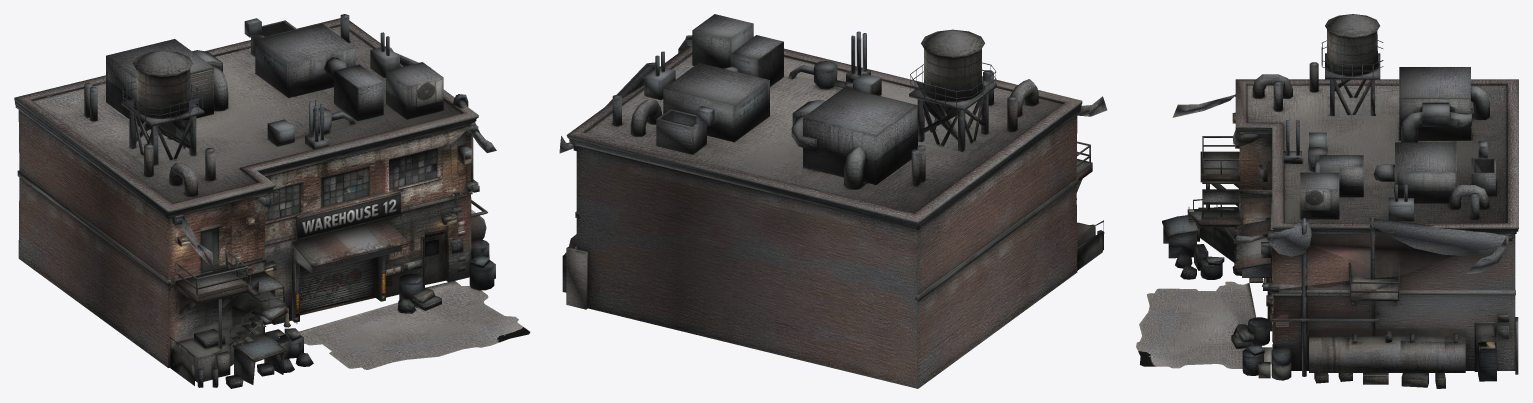
The picture shows the model from 3 angles, left to right: view 1: azimuth 30°, elevation 25°; view 2: azimuth 150°, elevation 25°; view 3: azimuth 270°, elevation 25°; orthographic projection. The views are drawn at different scales.
Visible parts, largest first — view 1: tripo_node_edee4f9e-3826-4686-a308-6505d5980f50; view 2: tripo_node_edee4f9e-3826-4686-a308-6505d5980f50; view 3: tripo_node_edee4f9e-3826-4686-a308-6505d5980f50.
Boxes of the visible parts, x1,y1,x2,y2 form: tripo_node_edee4f9e-3826-4686-a308-6505d5980f50: [14, 14, 530, 388]; tripo_node_edee4f9e-3826-4686-a308-6505d5980f50: [559, 14, 1107, 388]; tripo_node_edee4f9e-3826-4686-a308-6505d5980f50: [1136, 14, 1518, 388].
Bounding box in the file's own units: 0.998 × 0.6738 × 0.9824.
1 material, 1 textured.
